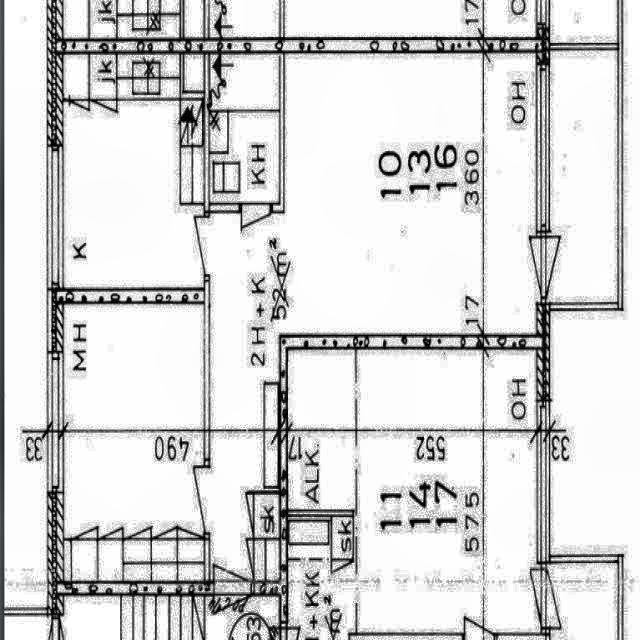room: (64, 304, 204, 581), (63, 53, 204, 287), (210, 53, 279, 203)
